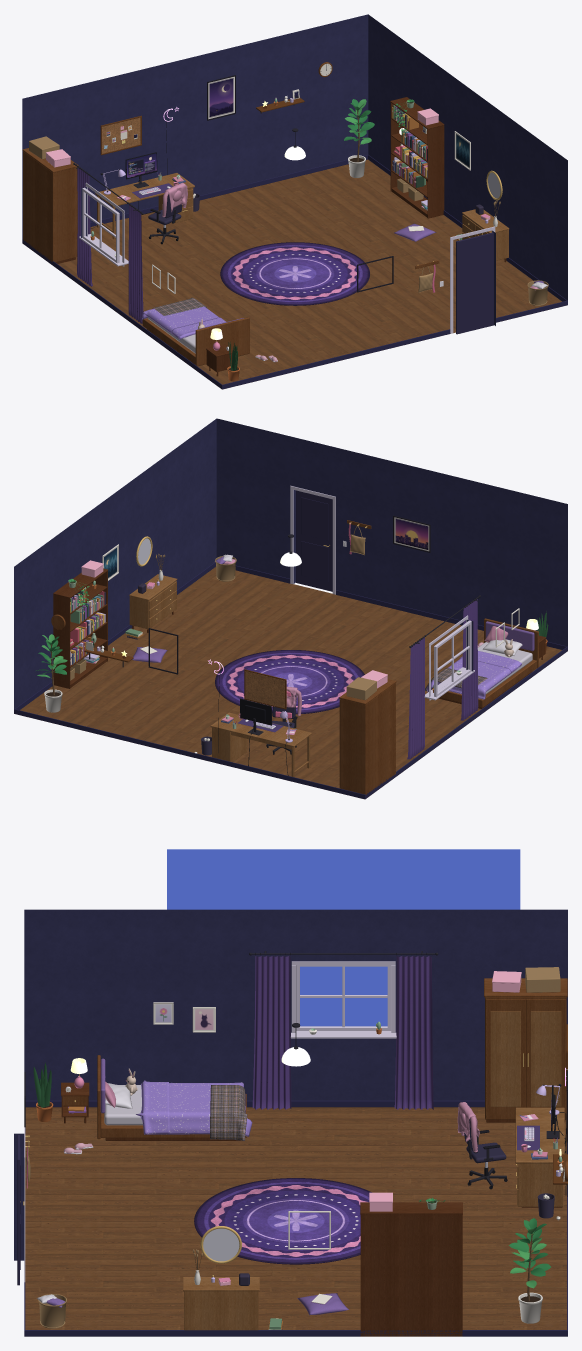
File: room.glb
3 renders of one model, top to bottom at view 1: azimuth 30°, elevation 25°; view 2: azimuth 150°, elevation 25°; view 3: azimuth 270°, elevation 25°, orthographic. The views are drawn at different scales.
Visible parts, largest first — view 1: Shell_Walls, Shell_Floor, Rug, Wardrobe, Shell_Skirting, Door, Bookshelf, Bookshelf_Items, Bed_Frame, Window_Frame, Desk, Curtain_R (+14 smaller); view 2: Shell_Walls, Shell_Floor, Wardrobe, Rug, Shell_Skirting, Door, Bookshelf, Desk, Bookshelf_Items, Dresser, Bed_Frame, Curtain_L (+12 smaller); view 3: Shell_Floor, Shell_Walls, Window_Sky, Bookshelf, Rug, Wardrobe, Curtain_L, Curtain_R, Shell_Skirting, Dresser, Bed_Duvet, Window_Frame (+15 smaller).
Boxes of the visible parts, bbox=[...] form: Shell_Walls: bbox=[22, 14, 567, 325]; Shell_Floor: bbox=[23, 159, 561, 386]; Rug: bbox=[220, 242, 369, 305]; Wardrobe: bbox=[22, 148, 78, 263]; Shell_Skirting: bbox=[22, 154, 567, 389]; Door: bbox=[450, 226, 495, 334]; Bookshelf: bbox=[390, 97, 444, 218]; Bookshelf_Items: bbox=[392, 105, 438, 210]; Bed_Frame: bbox=[142, 317, 249, 366]; Window_Frame: bbox=[79, 182, 128, 266]; Desk: bbox=[95, 173, 194, 239]; Curtain_R: bbox=[128, 205, 143, 323]; Shell_Walls: bbox=[14, 418, 567, 708]; Shell_Floor: bbox=[20, 567, 567, 793]; Wardrobe: bbox=[339, 679, 396, 794]; Rug: bbox=[215, 650, 364, 714]; Shell_Skirting: bbox=[14, 562, 567, 799]; Door: bbox=[290, 485, 335, 594]; Bookshelf: bbox=[53, 568, 108, 688]; Desk: bbox=[210, 712, 311, 777]; Bookshelf_Items: bbox=[70, 560, 105, 680]; Dresser: bbox=[129, 574, 177, 632]; Bed_Frame: bbox=[432, 618, 538, 708]; Curtain_L: bbox=[407, 637, 424, 759]; Shell_Floor: bbox=[25, 1107, 566, 1329]; Shell_Walls: bbox=[14, 909, 567, 1260]; Window_Sky: bbox=[167, 849, 520, 1026]; Bookshelf: bbox=[360, 1202, 462, 1336]; Rug: bbox=[194, 1178, 371, 1264]; Wardrobe: bbox=[484, 978, 567, 1122]; Curtain_L: bbox=[394, 956, 433, 1109]; Curtain_R: bbox=[252, 956, 291, 1109]; Shell_Skirting: bbox=[24, 1100, 567, 1336]; Dresser: bbox=[183, 1277, 259, 1330]; Bed_Duvet: bbox=[136, 1080, 252, 1136]; Window_Frame: bbox=[290, 961, 396, 1038].
Size of the model in its own units: 8.6 by 4.5 by 8.15.
Materials: 97 (32 with a texture image).
